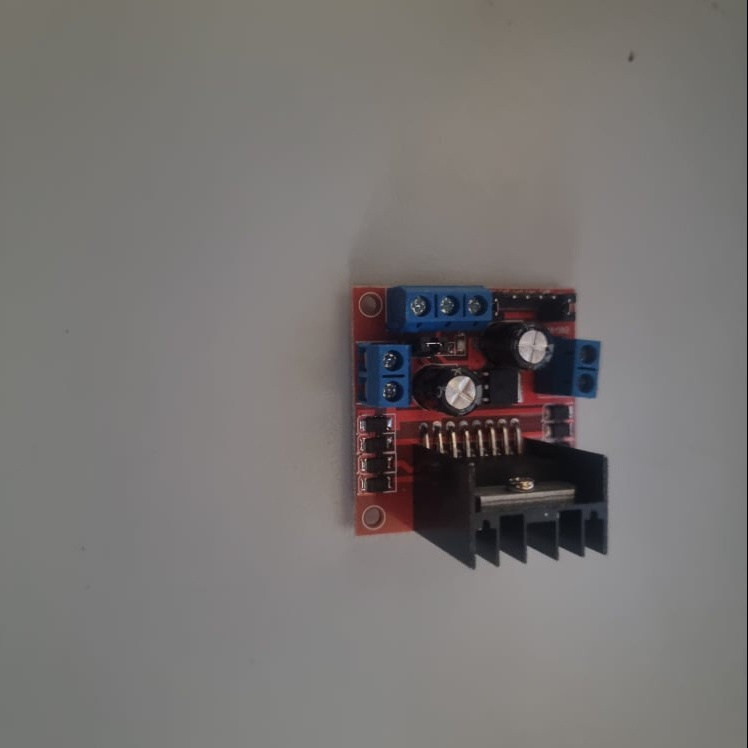MOTOR: (349, 281, 613, 570)
